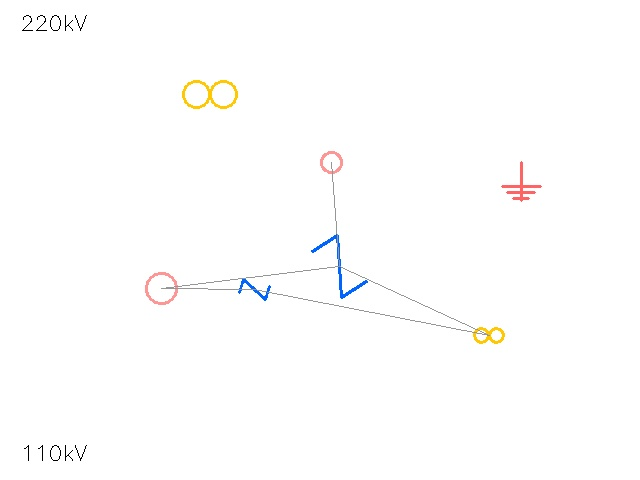circuit_breaker: (309, 236, 369, 296), (239, 274, 269, 304)
ground: (502, 162, 540, 200)
reactor: (310, 141, 352, 183)
transformer_2w: (177, 61, 243, 127), (471, 317, 507, 353)
voltage_transformer: (130, 257, 192, 319)
